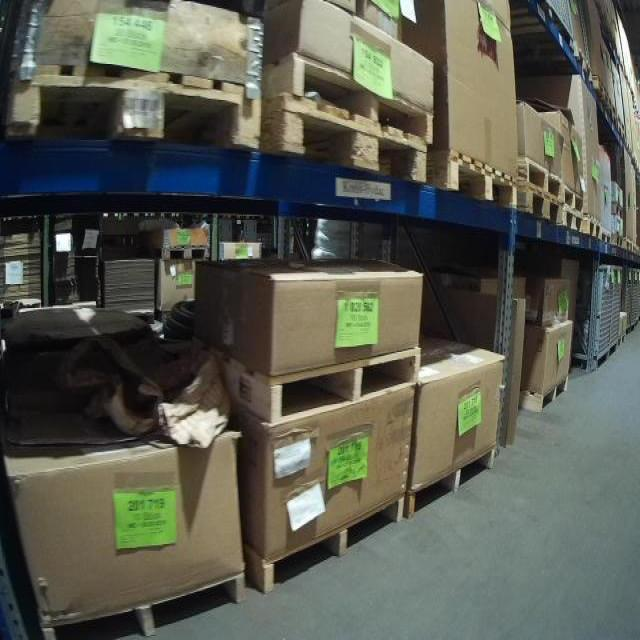pallet: (8, 54, 264, 161), (234, 497, 404, 600), (221, 344, 421, 431), (262, 86, 428, 187), (264, 44, 436, 141), (21, 568, 252, 637), (406, 441, 499, 521), (427, 141, 518, 214), (519, 151, 567, 204), (518, 374, 570, 419), (516, 185, 564, 223), (559, 202, 588, 237), (559, 179, 586, 210), (163, 247, 212, 264), (586, 209, 604, 247)
stillage: (568, 262, 614, 372), (602, 266, 627, 364), (615, 268, 635, 342), (636, 267, 640, 342)
